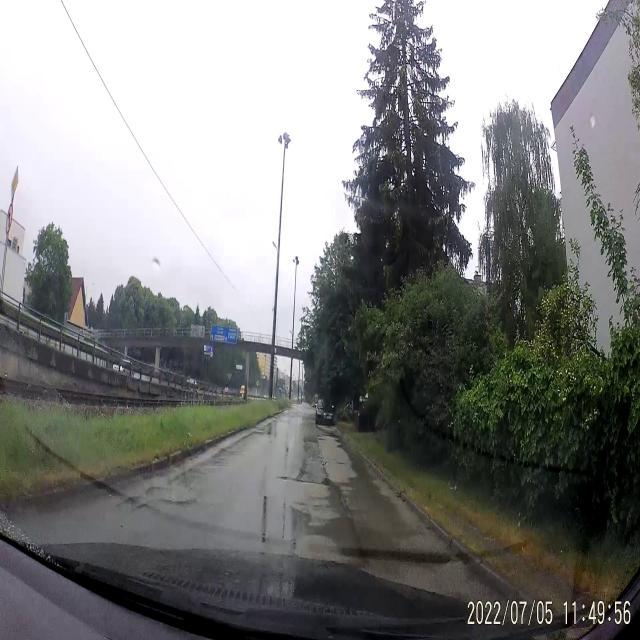Pothole: (280, 467, 338, 497)
